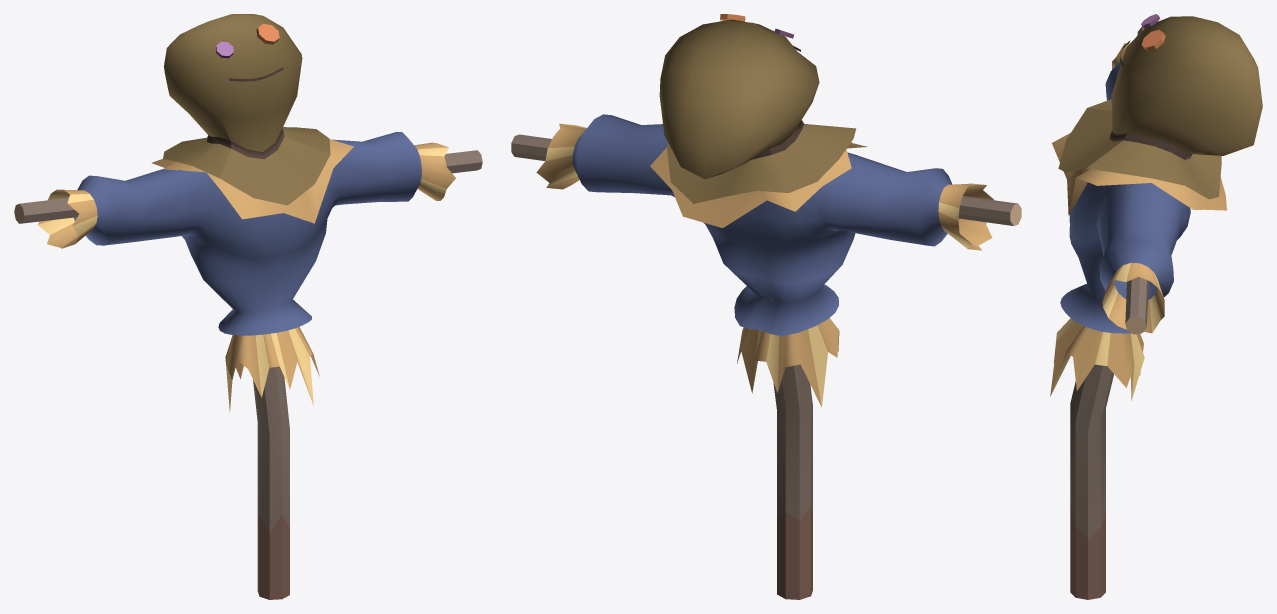
The model's file is Scarecrow.fbx.
3 views of the same model, side by side, from view 1: azimuth 30°, elevation 25°; view 2: azimuth 150°, elevation 25°; view 3: azimuth 270°, elevation 25° (orthographic). The views are drawn at different scales.
Visible parts, largest first — view 1: ScareCrow; view 2: ScareCrow; view 3: ScareCrow.
Boxes of the visible parts, x1,y1,x2,y2 form: ScareCrow: (14,14,482,599); ScareCrow: (511,14,1021,599); ScareCrow: (1050,14,1262,599).
Bounding box in the file's own units: 88.17 × 99.62 × 33.55.
